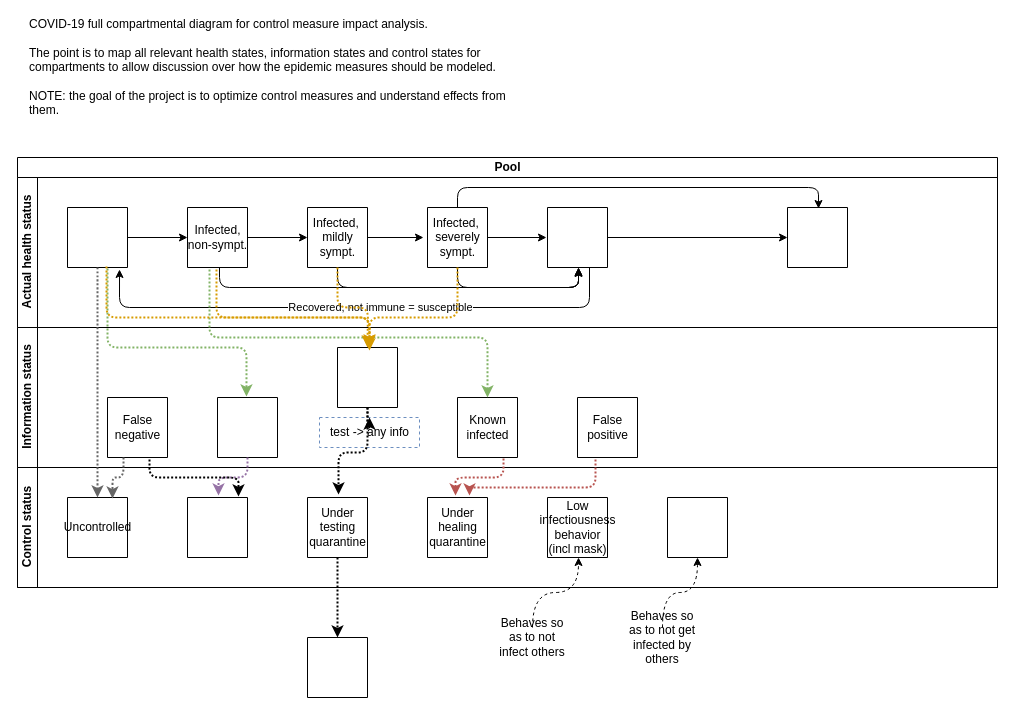
This 1015x715 diagram has some shape labels left out. Each missing label, with the centre of its shape:
Any control state: [337,667]
Deceased: [817,237]
Impacted by lockdown: [217,527]
Known uninfected: [247,427]
Low infectability behavior (incl mask): [697,527]
Recovered immune: [577,237]
Susceptible: [97,237]
Suspected to be inf.: [367,377]
